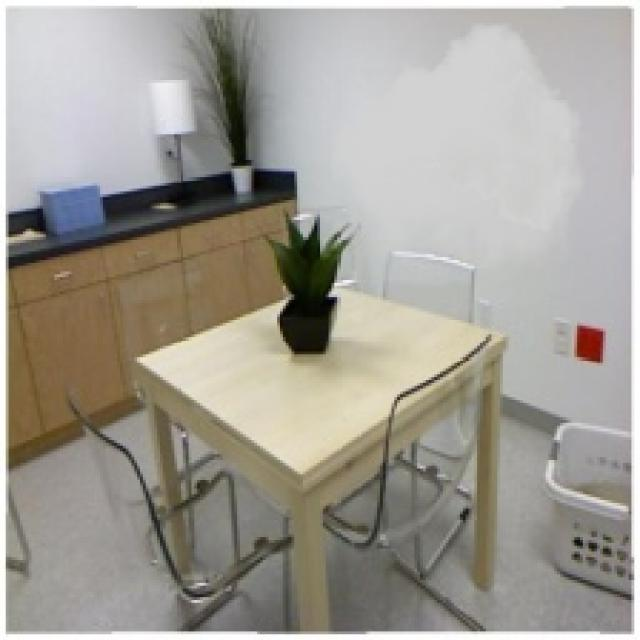smoke: (331, 23, 586, 268)
